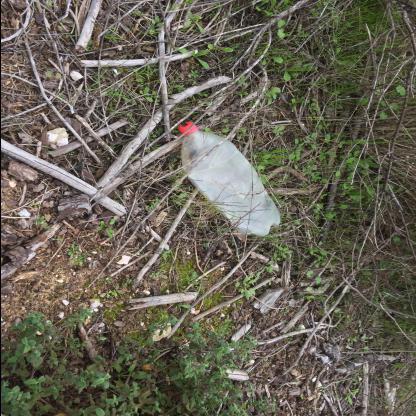plastik: (175, 118, 280, 236)
